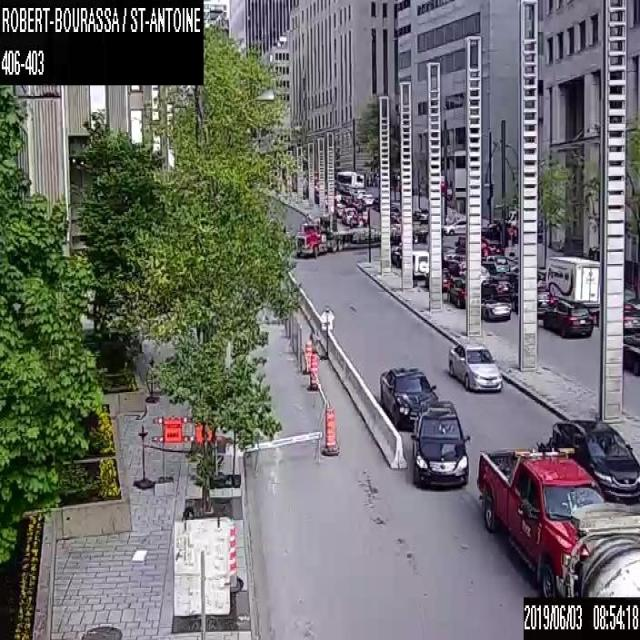bus: (336, 169, 364, 195)
construction: (172, 516, 230, 638), (152, 414, 220, 482), (226, 521, 243, 592), (319, 304, 334, 360), (322, 401, 339, 448), (307, 353, 320, 389), (303, 339, 314, 373)
vehicle: (476, 446, 607, 597), (548, 419, 639, 505), (566, 504, 639, 596), (294, 212, 429, 258), (411, 398, 470, 486), (536, 254, 599, 315), (379, 366, 438, 426), (448, 338, 502, 391), (544, 298, 592, 337), (512, 282, 550, 314), (480, 274, 511, 300), (481, 297, 510, 323), (425, 266, 453, 292), (459, 264, 489, 283), (447, 278, 466, 306), (481, 255, 508, 273), (412, 249, 428, 278), (481, 237, 504, 256), (443, 217, 465, 234), (446, 252, 466, 268), (341, 206, 356, 224), (349, 212, 367, 227), (390, 244, 400, 266), (351, 197, 365, 212), (454, 235, 465, 252), (334, 202, 345, 216), (361, 192, 373, 204), (352, 188, 366, 198), (340, 194, 352, 205), (390, 205, 398, 221), (373, 195, 379, 209)
